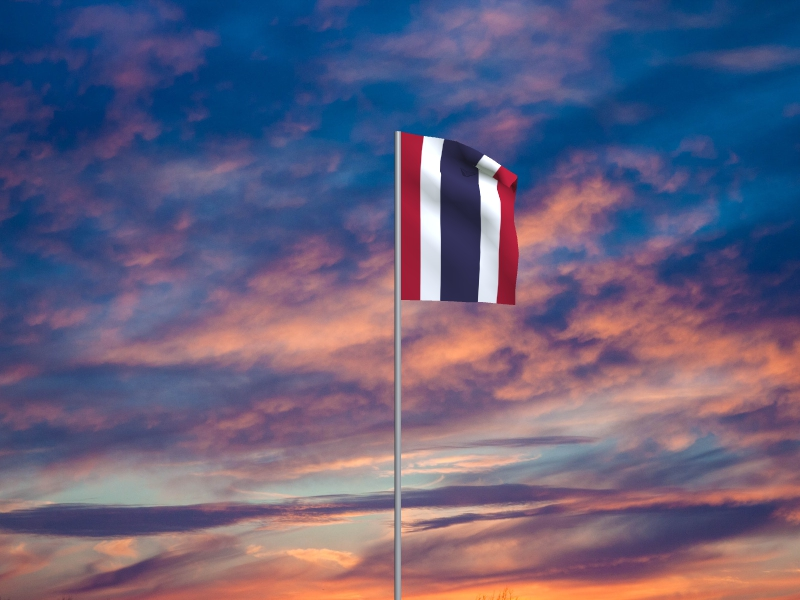th: (401, 132, 519, 307)
